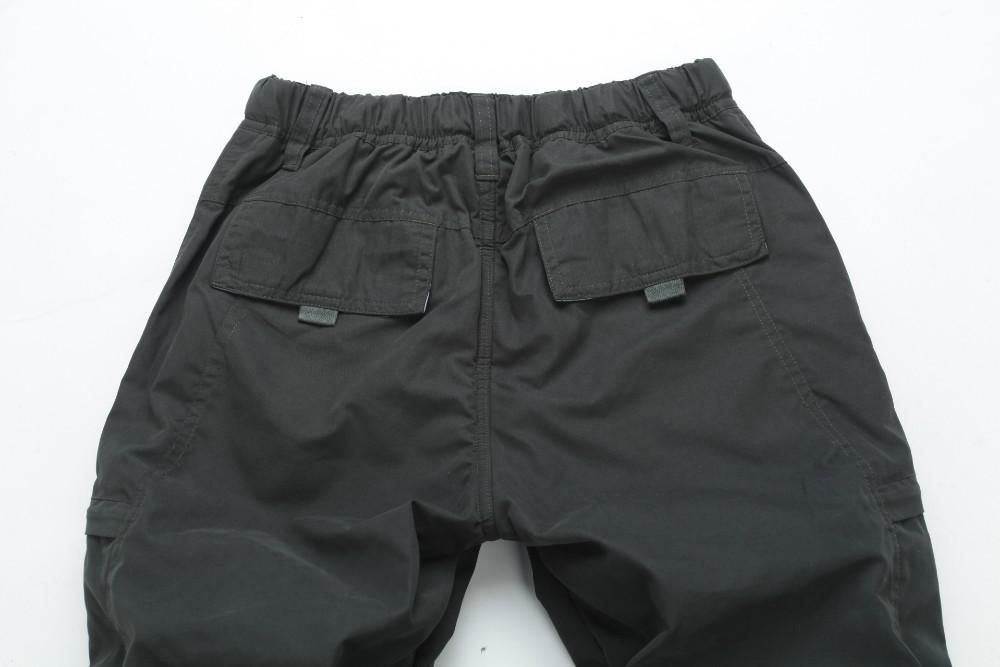pants: (91, 62, 965, 667)
